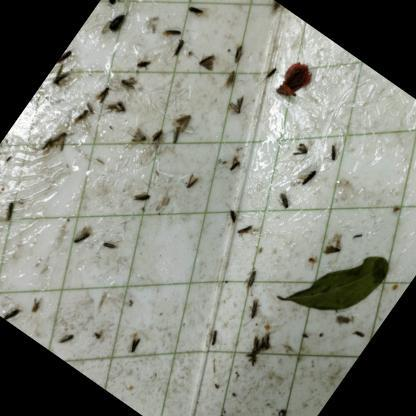prays_oleae: (162, 107, 202, 148), (194, 322, 232, 362), (187, 46, 224, 82), (214, 151, 247, 188), (266, 188, 298, 222), (316, 230, 348, 263), (125, 180, 156, 214), (315, 141, 344, 176), (0, 192, 25, 232), (222, 94, 254, 124), (240, 329, 270, 361), (286, 139, 316, 170), (176, 170, 206, 200), (223, 39, 252, 70), (46, 63, 75, 94), (0, 295, 27, 324), (256, 325, 283, 354), (95, 232, 122, 260), (329, 305, 356, 333), (67, 104, 94, 132), (143, 122, 170, 150), (48, 120, 74, 149), (122, 331, 148, 359), (22, 292, 48, 320), (229, 220, 256, 246), (129, 51, 155, 78), (240, 296, 265, 324), (124, 128, 150, 154), (180, 0, 206, 25), (218, 203, 242, 230), (256, 61, 280, 88), (73, 222, 97, 248), (115, 73, 141, 97), (57, 324, 81, 350), (104, 96, 128, 121), (91, 80, 114, 106), (86, 326, 110, 350), (239, 266, 261, 290), (32, 132, 54, 156), (160, 22, 182, 42), (168, 41, 186, 61), (220, 72, 237, 90), (60, 47, 76, 64)
